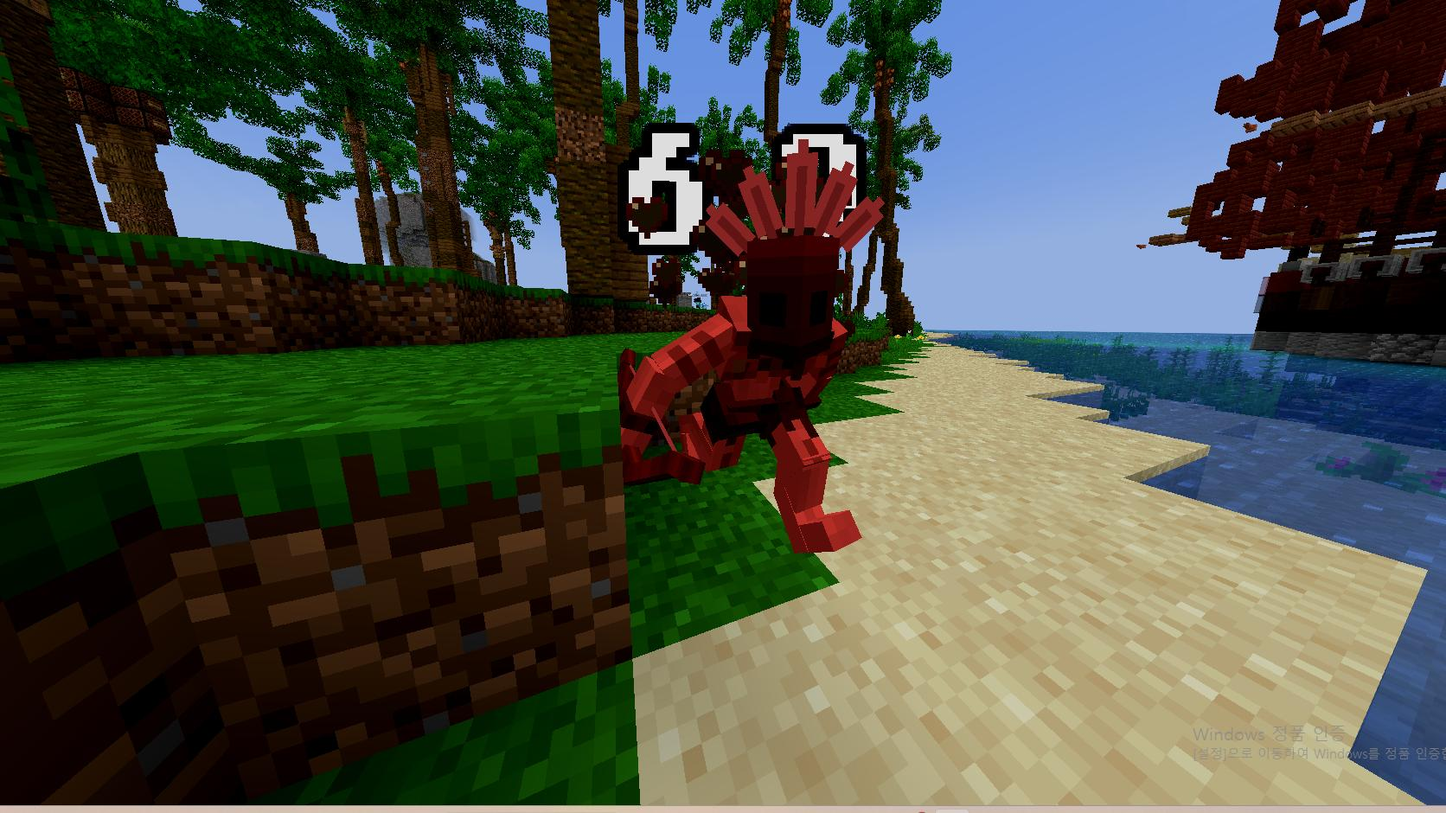bow_indian: (569, 126, 978, 601)
